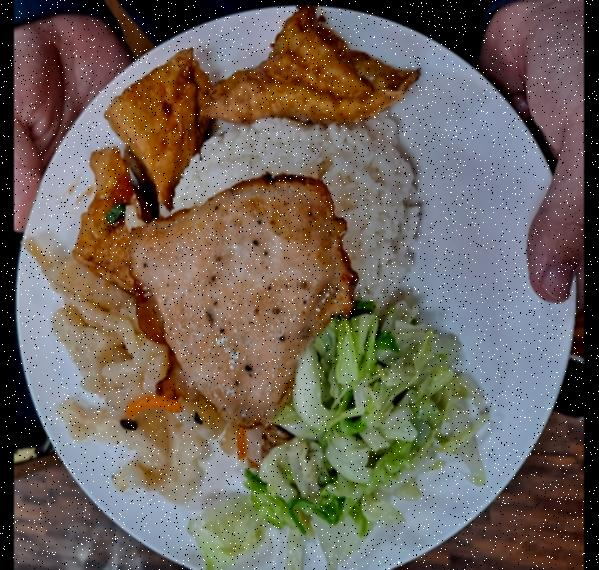grilled chicken steak: (132, 188, 338, 426)
plate: (25, 0, 576, 570)
side dish: (250, 326, 478, 570), (39, 177, 191, 506), (117, 32, 409, 145)
white rice: (168, 116, 430, 266)
